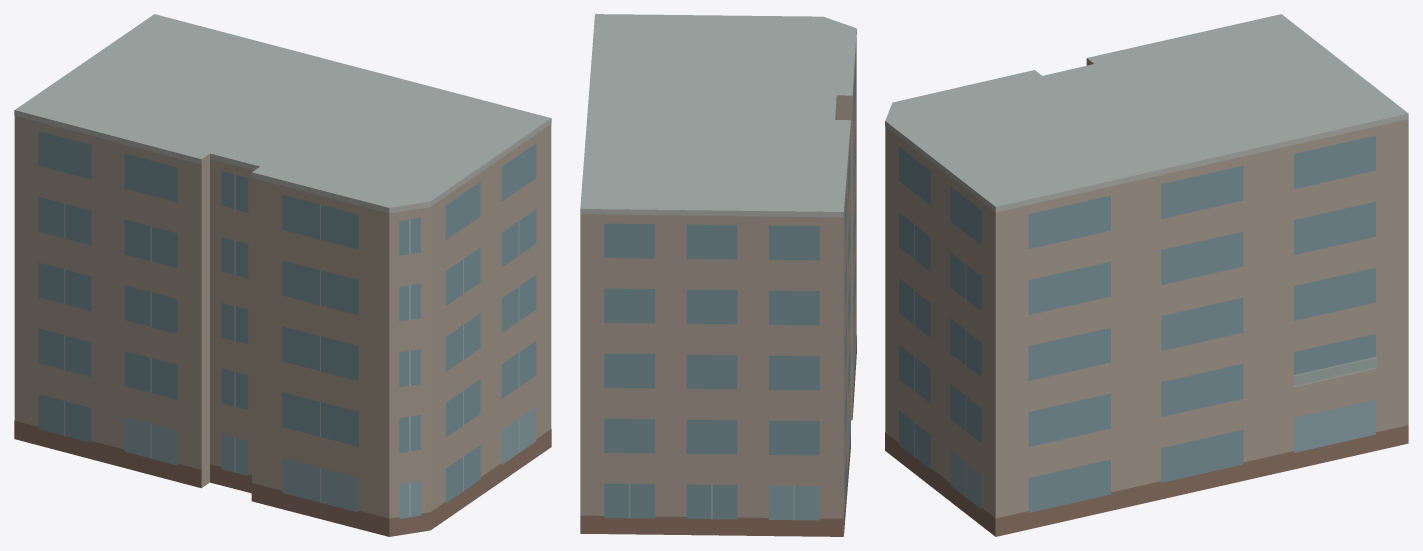
File: survey-upis-32670797.glb
The picture shows the model from 3 angles, left to right: view 1: azimuth 30°, elevation 25°; view 2: azimuth 150°, elevation 25°; view 3: azimuth 270°, elevation 25°; orthographic projection.
Visible parts, largest first — view 1: survey-upis-32670797.tmp; view 2: survey-upis-32670797.tmp; view 3: survey-upis-32670797.tmp.
Part boxes in pixels (x1,y1,x2,y2): survey-upis-32670797.tmp: [14, 14, 551, 536]; survey-upis-32670797.tmp: [580, 14, 856, 536]; survey-upis-32670797.tmp: [885, 14, 1408, 536].
Bounding box in the file's own units: 18.43 × 14.68 × 21.12.
